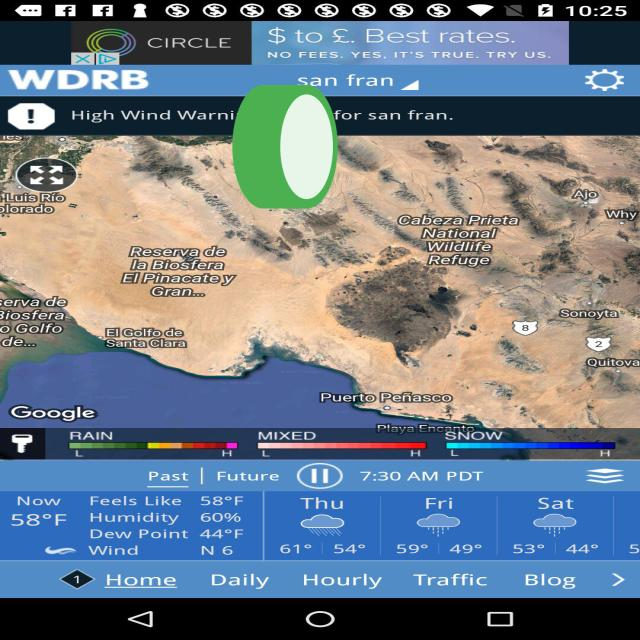social proof: (228, 37, 342, 266)
